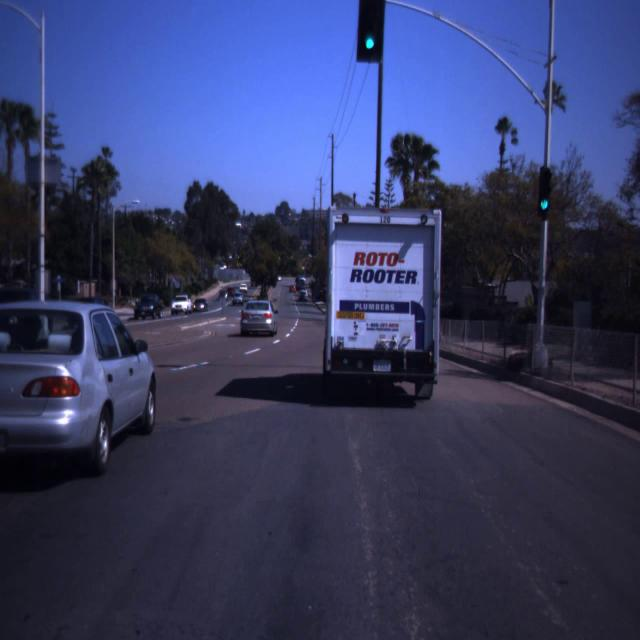yesil: (357, 0, 385, 62), (538, 166, 552, 217)
